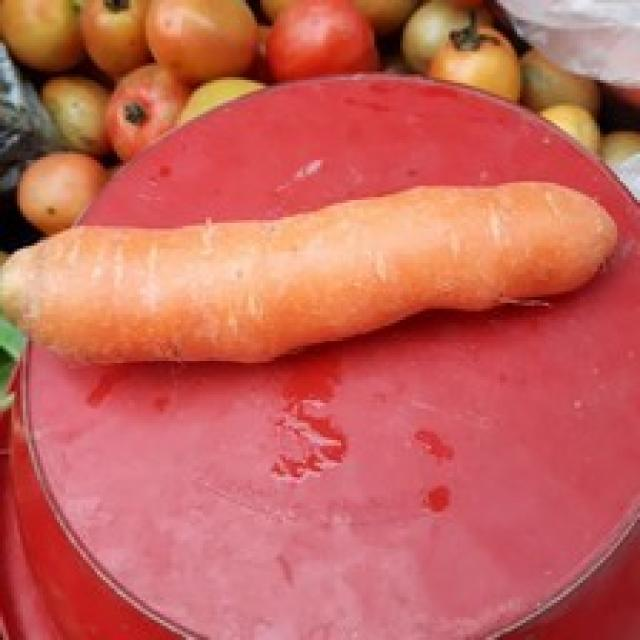Fresh_Carrot: (0, 183, 629, 363)
